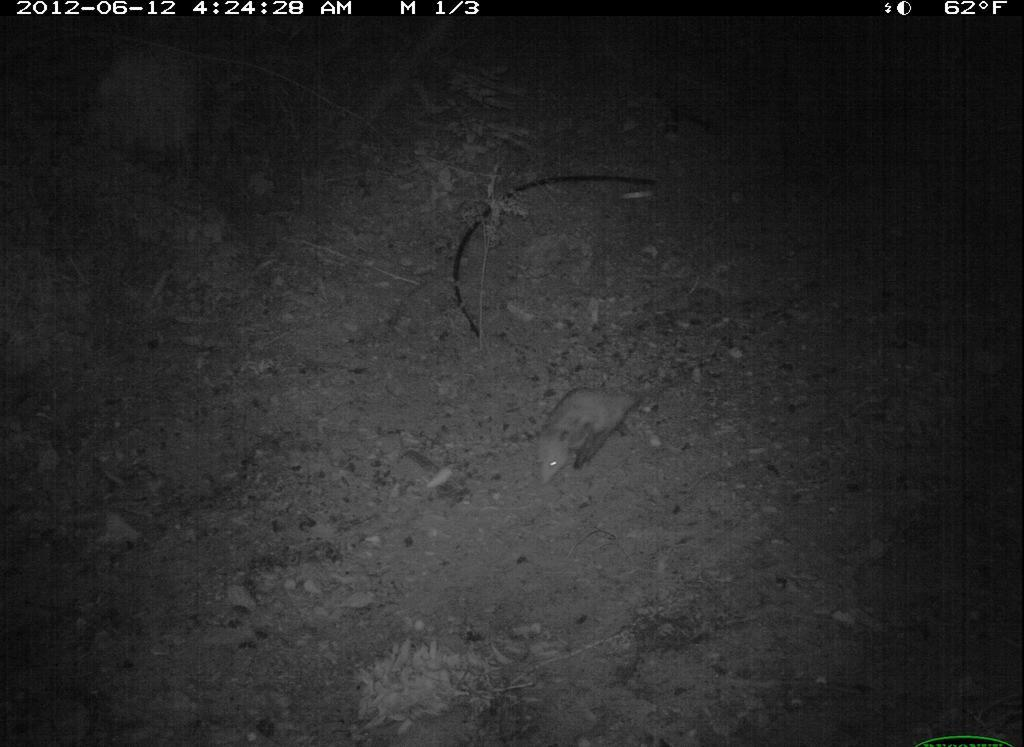opossum: (524, 376, 671, 491)
